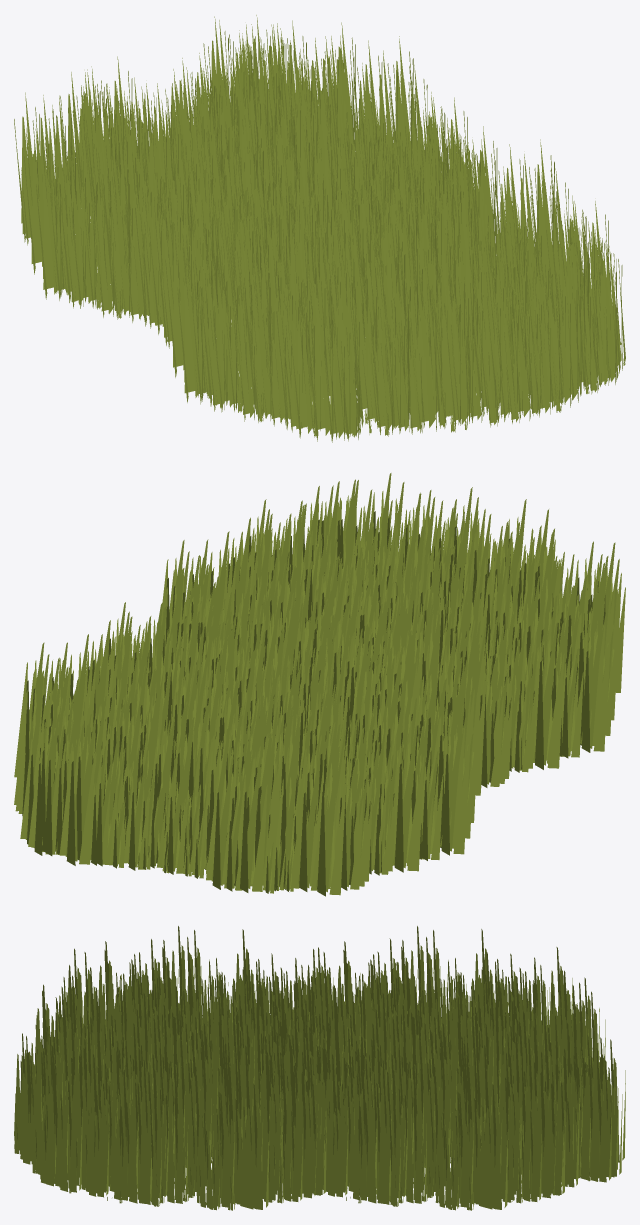
Rendered from daun2.fbx.
3 views of the same model, one above another, from view 1: azimuth 30°, elevation 25°; view 2: azimuth 150°, elevation 25°; view 3: azimuth 270°, elevation 25° (orthographic). The views are drawn at different scales.
Parts seen in each view (by area): view 1: GrassGreen, GrassGreen.001; view 2: GrassGreen.001, GrassGreen; view 3: GrassGreen.001, GrassGreen.
Part boxes in pixels (bbox=[...]): GrassGreen: bbox=[155, 118, 625, 442]; GrassGreen.001: bbox=[14, 15, 480, 334]; GrassGreen.001: bbox=[14, 575, 485, 896]; GrassGreen: bbox=[161, 473, 625, 787]; GrassGreen.001: bbox=[255, 926, 625, 1210]; GrassGreen: bbox=[14, 926, 386, 1210].
Bounding box in the file's own units: 255 × 87.52 × 381.
